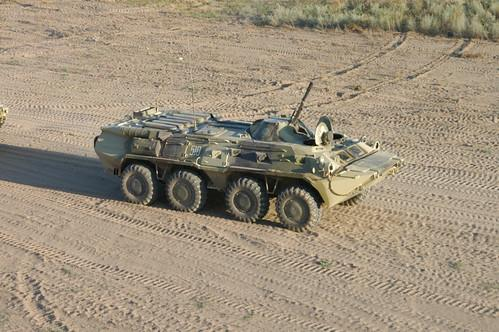armored_car: (93, 80, 401, 234)
